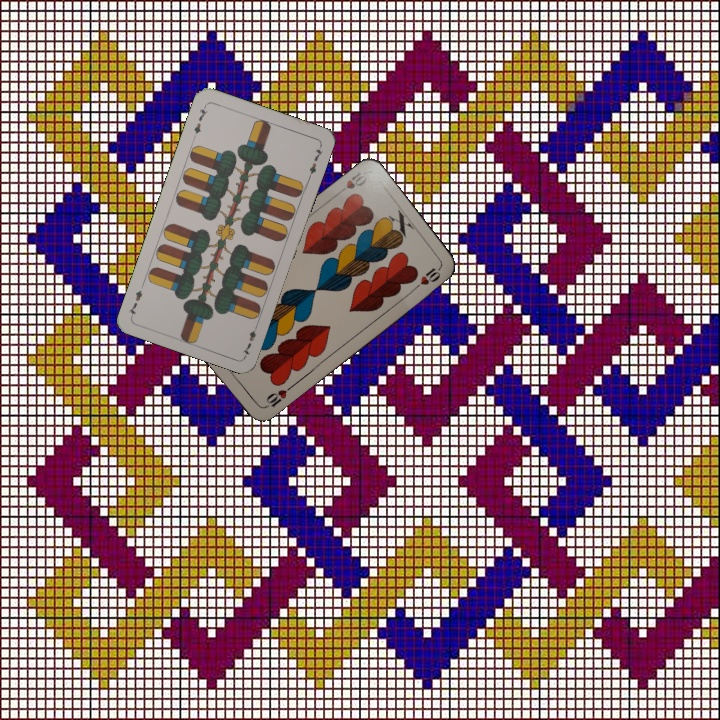E7: (238, 319, 261, 359), (189, 101, 210, 141)
H10: (333, 167, 369, 198), (260, 382, 295, 411)
